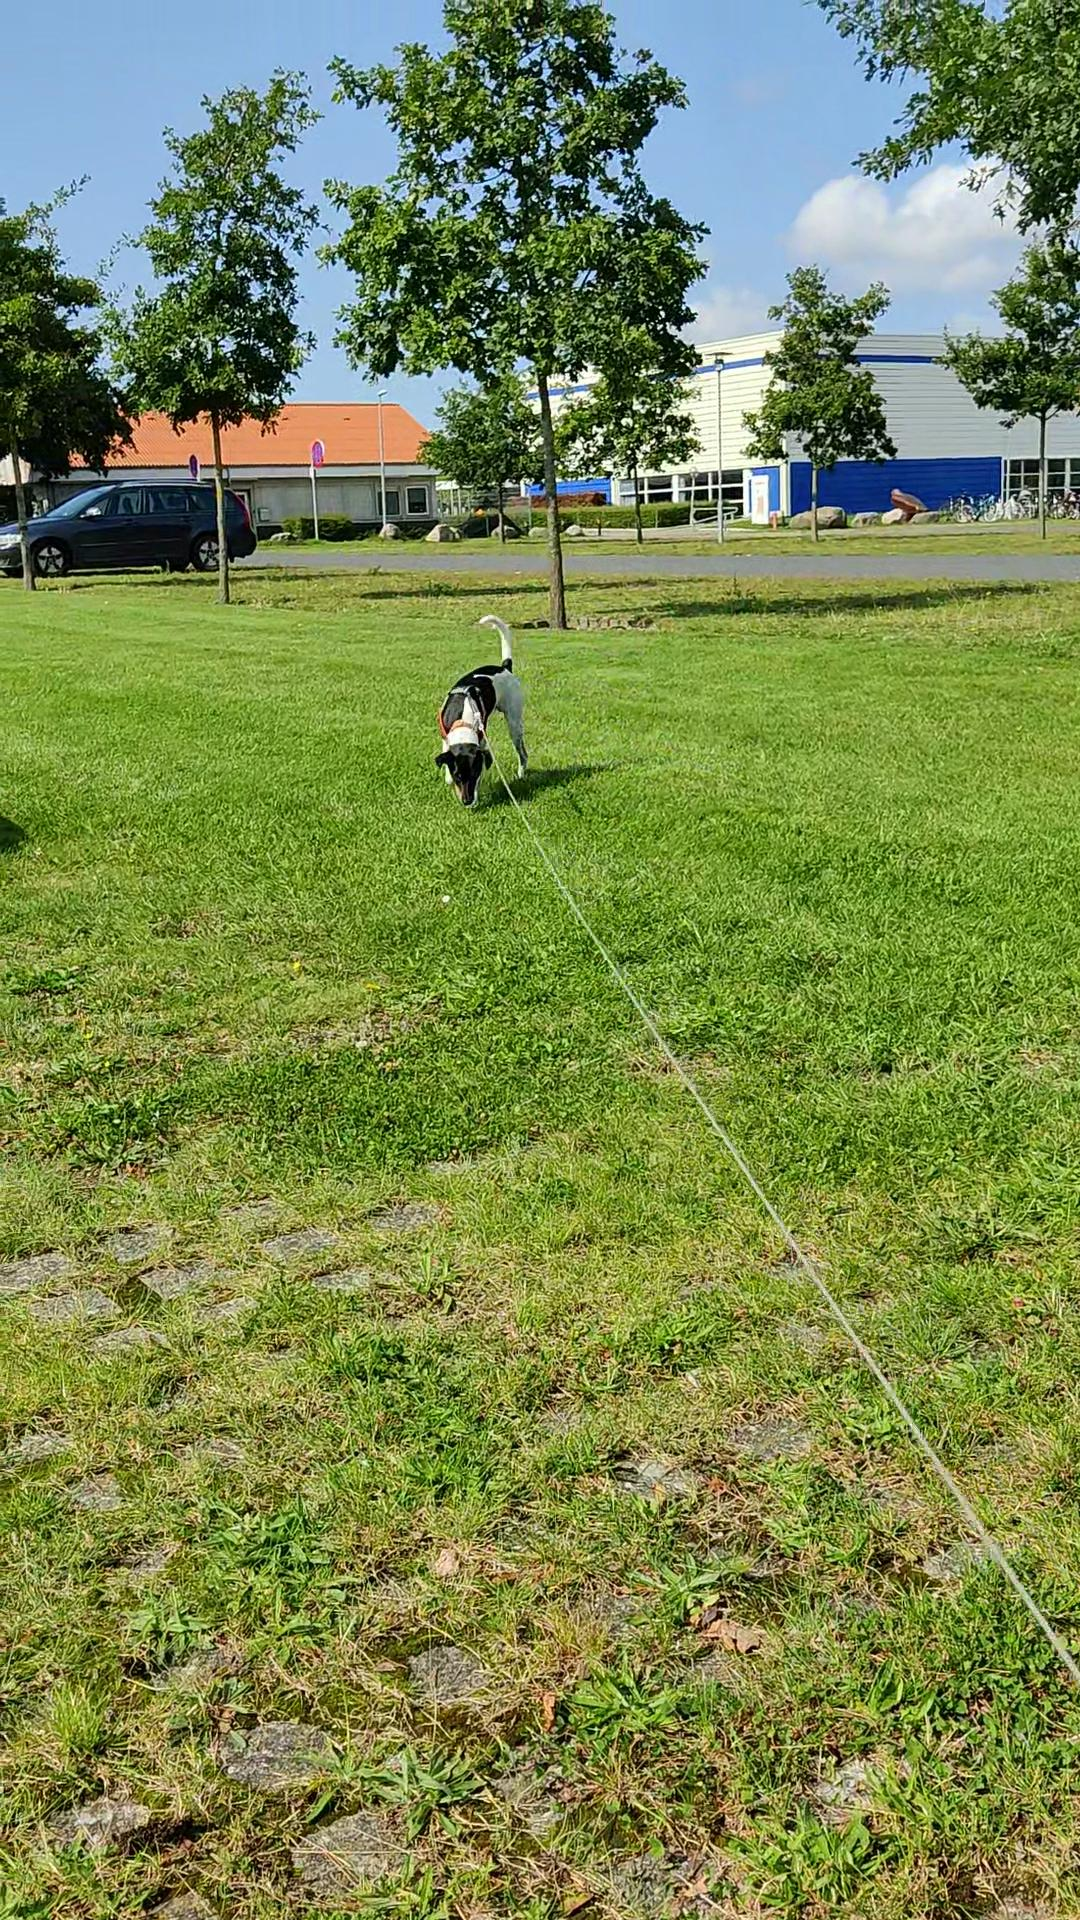Dog: (425, 607, 551, 814)
